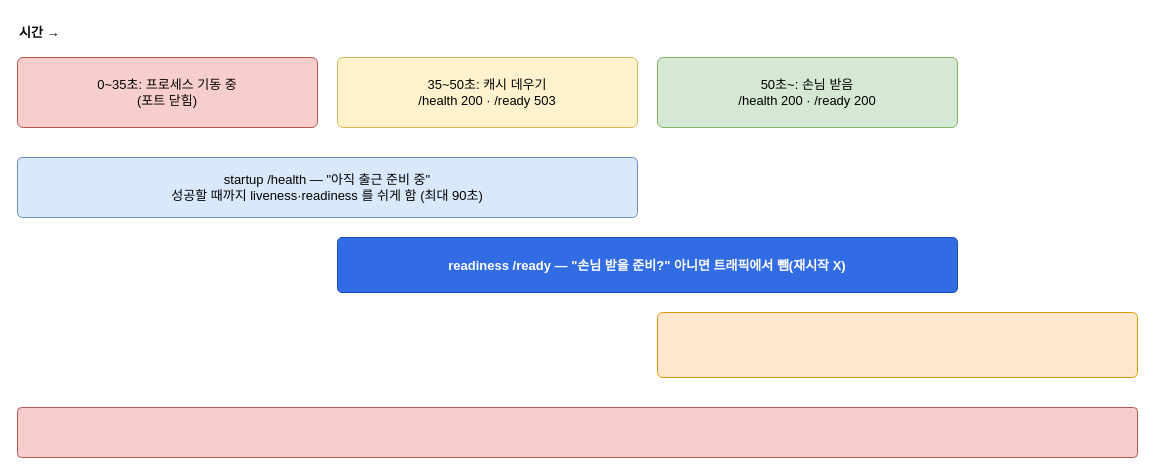
The diagram is 1155 pixels wide and 475 high, and some of its shapes have lost their labels. The shapes that lost their labels are listed below. From the top down, each one's box as (x1, y1, x2, y2) in pixels, then its label:
(656, 312, 1138, 378): liveness /health — "살아 있나?" 아니면 재시작 얕게: 프로세스만. DB 같은 바깥 의존성은 보지 않는다
(16, 406, 1138, 458): ✗ liveness 가 DB 까지 보면: DB 3분 장애 → 모든 파드 재시작 → 재시작 대기(백오프)로 더 길게 → 자동화가 장애를 키움
